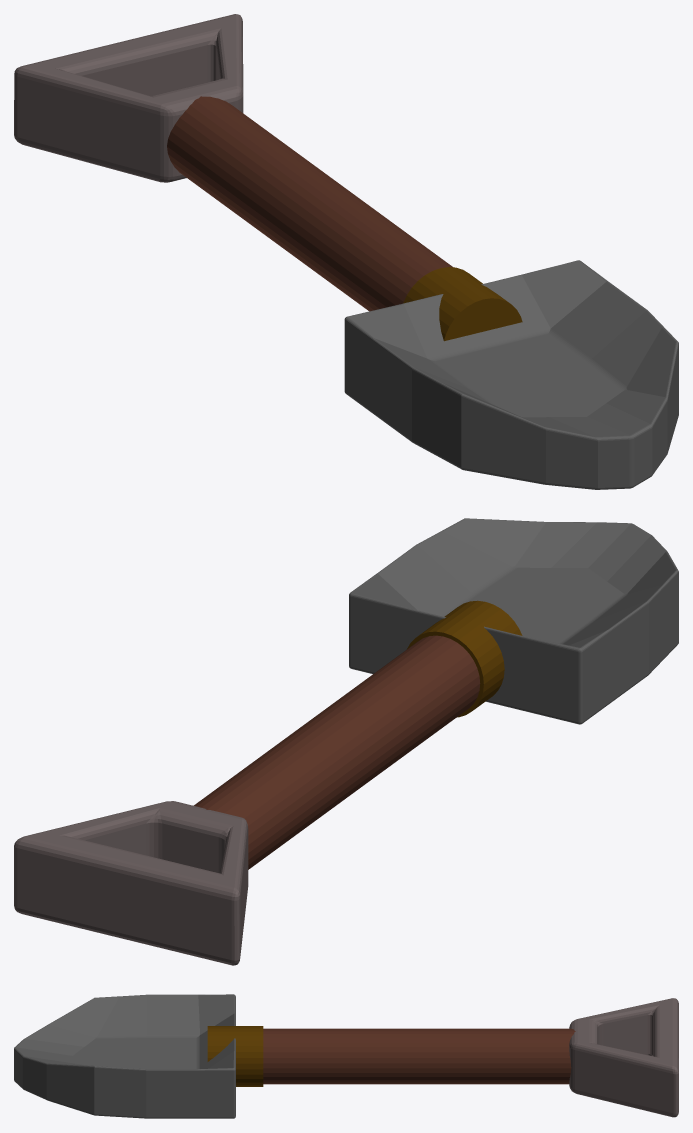
The model's file is shovel.fbx.
3 views of the same model, one above another, from view 1: azimuth 30°, elevation 25°; view 2: azimuth 150°, elevation 25°; view 3: azimuth 270°, elevation 25° (orthographic). The views are drawn at different scales.
Parts seen in each view (by area): view 1: Head, Handle, Stick, Connecter; view 2: Head, Handle, Stick, Connecter; view 3: Head, Stick, Handle, Connecter.
Part boxes in pixels (bbox=[...]): Head: bbox=[344, 260, 678, 489]; Handle: bbox=[14, 14, 243, 182]; Stick: bbox=[167, 96, 452, 311]; Connecter: bbox=[403, 267, 522, 341]; Head: bbox=[349, 518, 678, 724]; Handle: bbox=[14, 801, 248, 965]; Stick: bbox=[194, 635, 480, 869]; Connecter: bbox=[407, 600, 522, 717]; Head: bbox=[14, 994, 235, 1118]; Stick: bbox=[263, 1028, 575, 1084]; Handle: bbox=[569, 998, 678, 1117]; Connecter: bbox=[207, 1026, 263, 1086].
Bounding box in the file's own units: 160 × 55 × 597.
